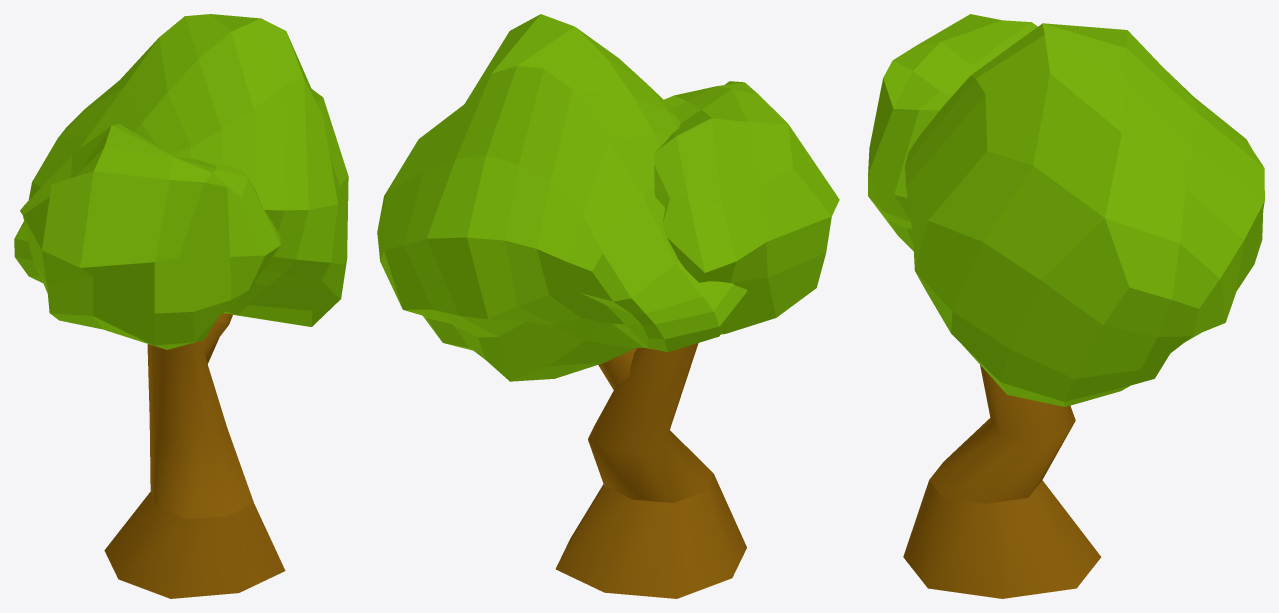
Rendered from tree_a_01.fbx.
The picture shows the model from 3 angles, left to right: view 1: azimuth 30°, elevation 25°; view 2: azimuth 150°, elevation 25°; view 3: azimuth 270°, elevation 25°; orthographic projection. The views are drawn at different scales.
Parts seen in each view (by area): view 1: pCube17, pCube16, pCube14, pCube15; view 2: pCube17, pCube16, pCube14, pCube15; view 3: pCube17, pCube14, pCube16.
Boxes of the visible parts, <box> form: pCube17: <box>14,14,348,326</box>; pCube16: <box>20,124,280,349</box>; pCube14: <box>104,341,285,598</box>; pCube15: <box>200,313,232,363</box>; pCube17: <box>377,14,747,381</box>; pCube16: <box>653,81,839,334</box>; pCube14: <box>555,343,746,598</box>; pCube15: <box>598,348,636,389</box>; pCube17: <box>904,23,1264,406</box>; pCube14: <box>903,365,1101,598</box>; pCube16: <box>868,14,1037,251</box>.
Size of the model in its own units: 234 by 317 by 201.
